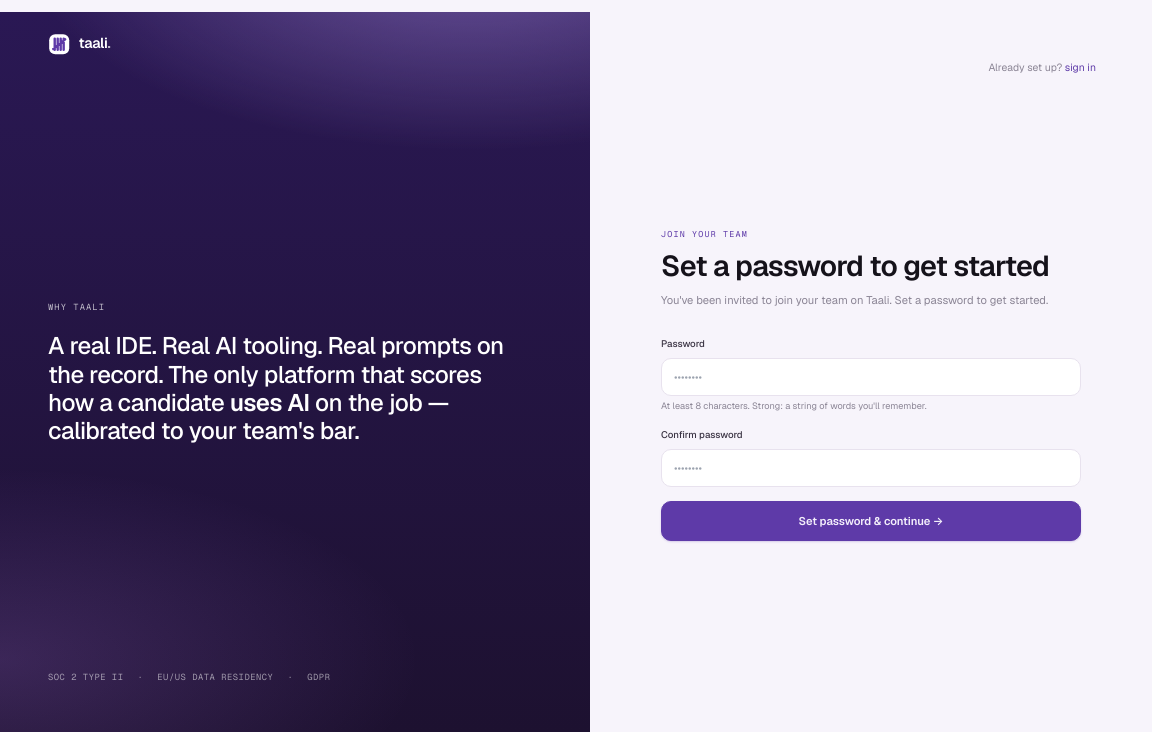
Test: Auth page redesign › surfaces the backend password reason verbatim on a 422 accept-invite
Step 1. Type "password123" into the password field with placeholder "••••••••" → coordinates (871, 377), box [661,358,1081,396]
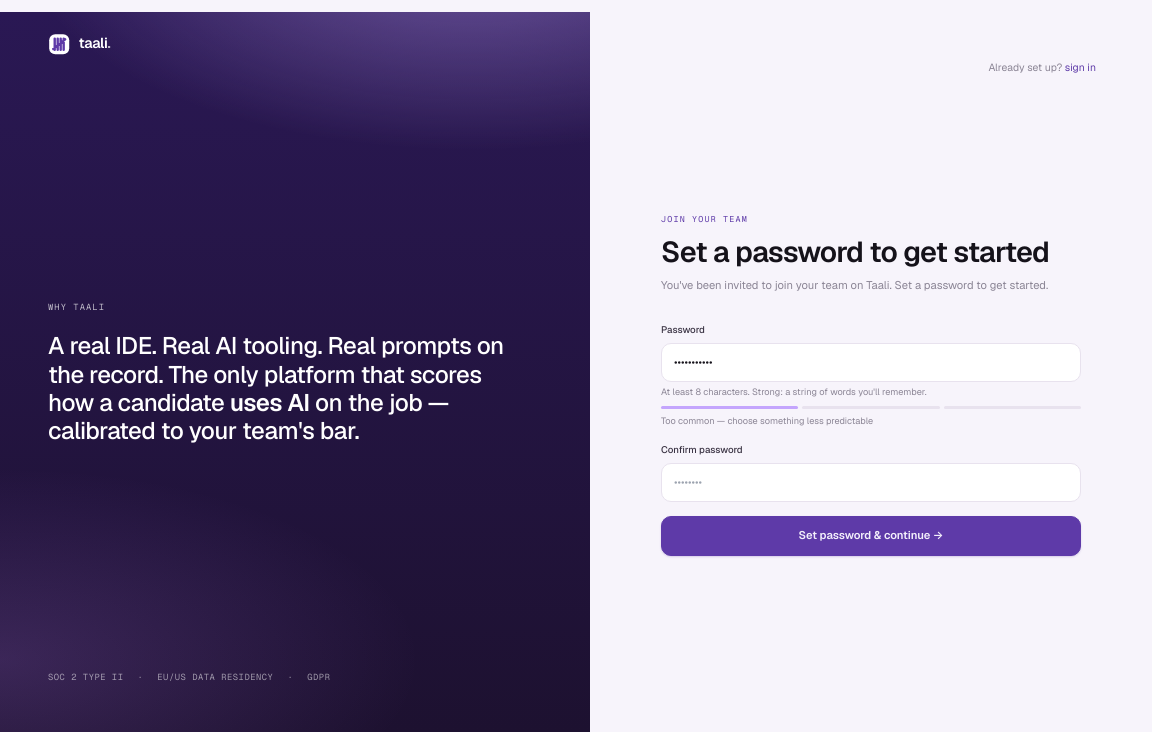
Step 2. Type "password123" into the password field with placeholder "••••••••" → coordinates (871, 482), box [661,463,1081,502]
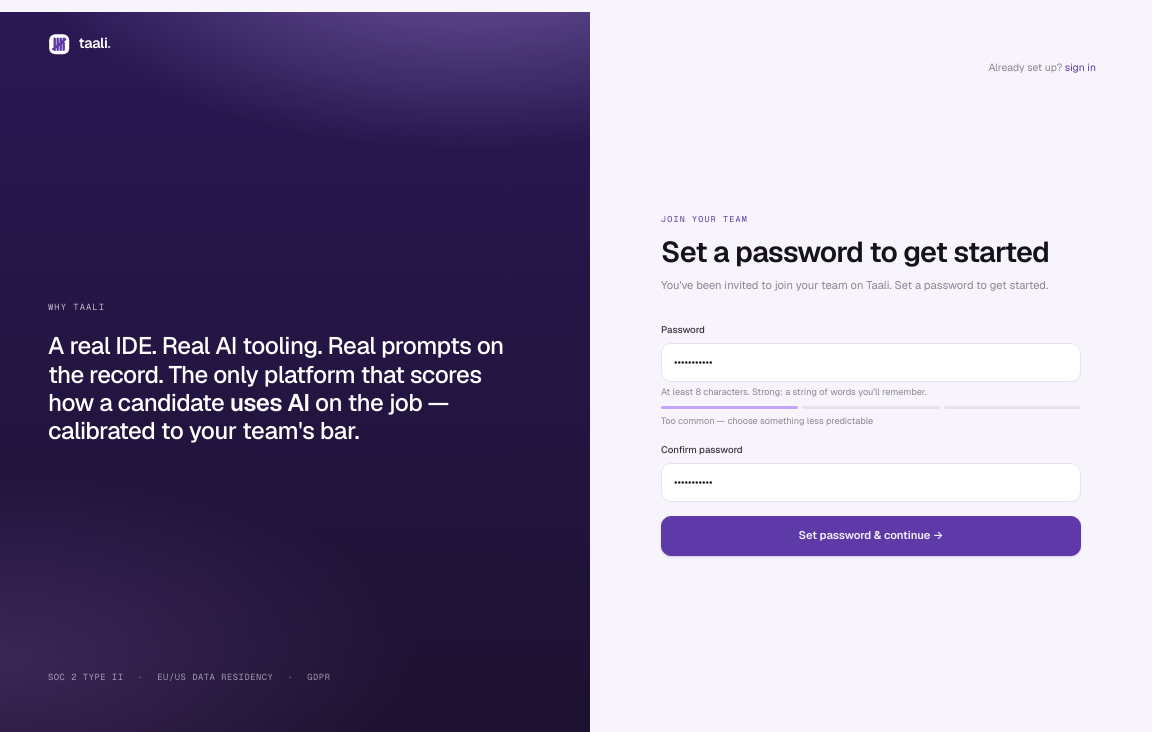
Step 3. Click the button "Set password & continue →" → coordinates (871, 536), box [661,516,1081,556]
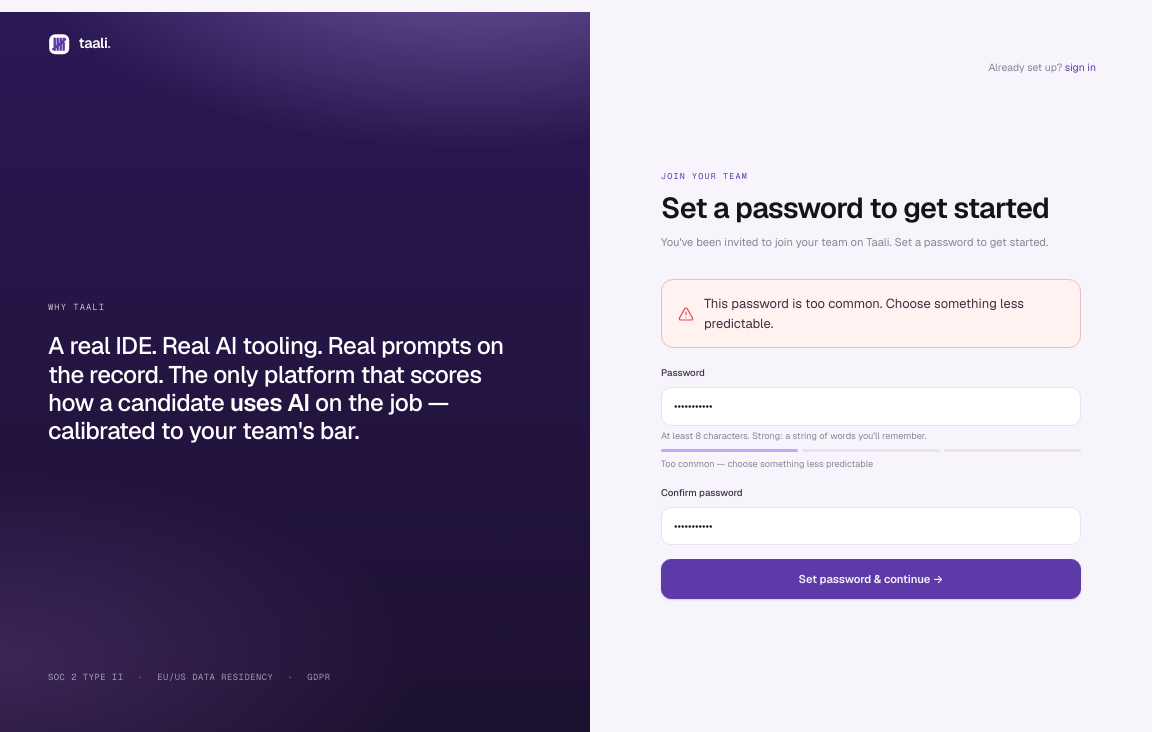
Expected: the text "This password is too common. Choose something less predictable." is shown, [704,294,1064,333]
